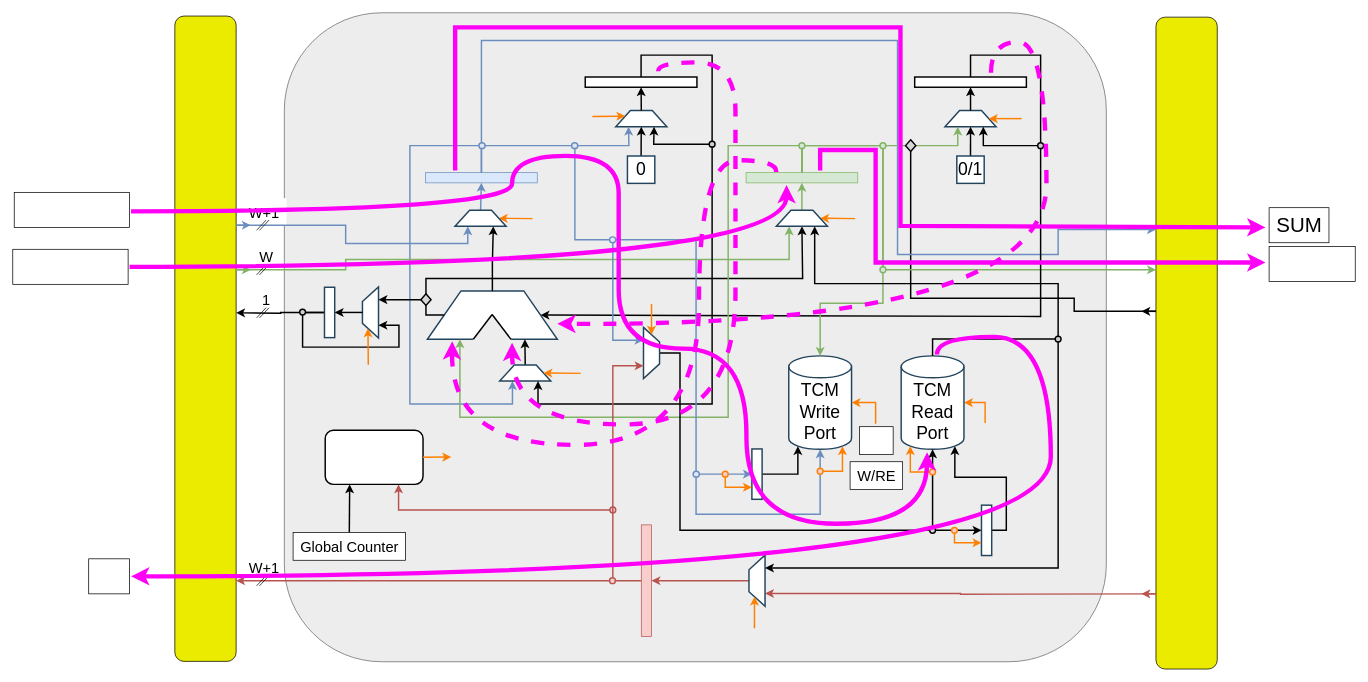
Image size: 1368x682. Some labels were removed from this diagram. The shapes that lost their labels are listed below. From the top down, each one's box as (x1, y1, x2, y2) in pixels, then its label:
(14, 192, 130, 227): LUT ADDR
(12, 249, 128, 284): ACCUM IN
(1268, 246, 1355, 281): CARRY
(324, 429, 423, 485): Local Controller
(859, 426, 893, 454): PE
(88, 558, 130, 594): PP
